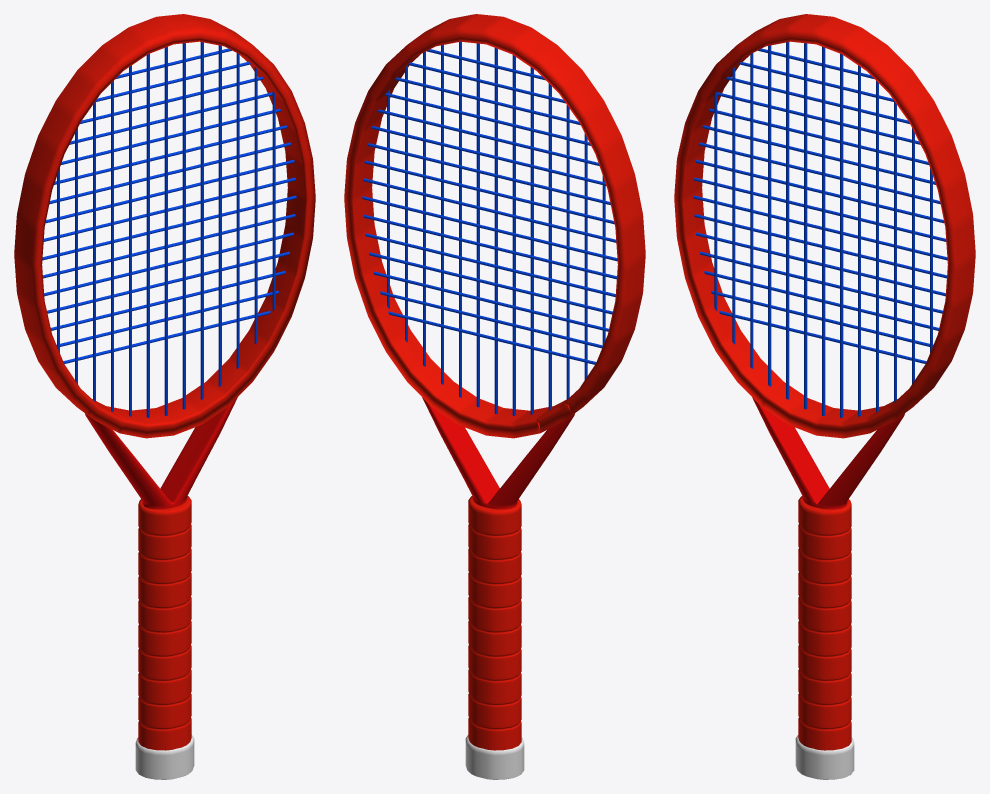
File: racket2.fbx
3 views of the same model, side by side, from view 1: azimuth 30°, elevation 25°; view 2: azimuth 150°, elevation 25°; view 3: azimuth 330°, elevation 25° (orthographic).
Parts seen in each view (by area): view 1: Circle, Handle, Neck, Base, string.026, string.015, string.022, string.016, string.017, string.018, string.027, string.025 (+19 smaller); view 2: Circle, Handle, Neck, Base, string.026, string.015, string.022, string.025, string.023, string.002, string.011, string.008 (+20 smaller); view 3: Circle, Handle, Neck, Base, string.026, string.022, string.015, string.025, string.023, string.002, string.028, string.016 (+19 smaller).
Part boxes in pixels (x1=…): Circle: x1=14, y1=14, x2=315, y2=438; Handle: x1=138, y1=496, x2=191, y2=750; Neck: x1=85, y1=397, x2=237, y2=509; Base: x1=135, y1=735, x2=194, y2=779; string.026: x1=164, y1=47, x2=167, y2=415; string.015: x1=182, y1=43, x2=185, y2=409; string.022: x1=146, y1=53, x2=149, y2=417; string.016: x1=200, y1=42, x2=203, y2=399; string.017: x1=218, y1=45, x2=221, y2=386; string.018: x1=236, y1=53, x2=239, y2=368; string.027: x1=254, y1=67, x2=257, y2=344; string.025: x1=129, y1=65, x2=131, y2=416; Circle: x1=344, y1=14, x2=645, y2=438; Handle: x1=468, y1=496, x2=521, y2=750; Neck: x1=422, y1=397, x2=574, y2=509; Base: x1=465, y1=735, x2=524, y2=779; string.026: x1=494, y1=48, x2=497, y2=413; string.015: x1=476, y1=43, x2=479, y2=407; string.022: x1=512, y1=55, x2=515, y2=415; string.025: x1=530, y1=67, x2=533, y2=414; string.023: x1=548, y1=83, x2=551, y2=410; string.002: x1=566, y1=105, x2=569, y2=399; string.011: x1=362, y1=196, x2=617, y2=261; string.008: x1=363, y1=178, x2=616, y2=242; Circle: x1=674, y1=14, x2=975, y2=438; Handle: x1=798, y1=496, x2=851, y2=750; Neck: x1=752, y1=397, x2=904, y2=509; Base: x1=795, y1=735, x2=854, y2=779; string.026: x1=822, y1=47, x2=825, y2=415; string.022: x1=804, y1=43, x2=807, y2=409; string.015: x1=840, y1=53, x2=843, y2=417; string.025: x1=786, y1=42, x2=789, y2=399; string.023: x1=768, y1=45, x2=771, y2=386; string.002: x1=750, y1=53, x2=753, y2=368; string.028: x1=732, y1=67, x2=735, y2=344; string.016: x1=858, y1=65, x2=860, y2=416.
Size of the model in its own units: 956 by 2397 by 152.
